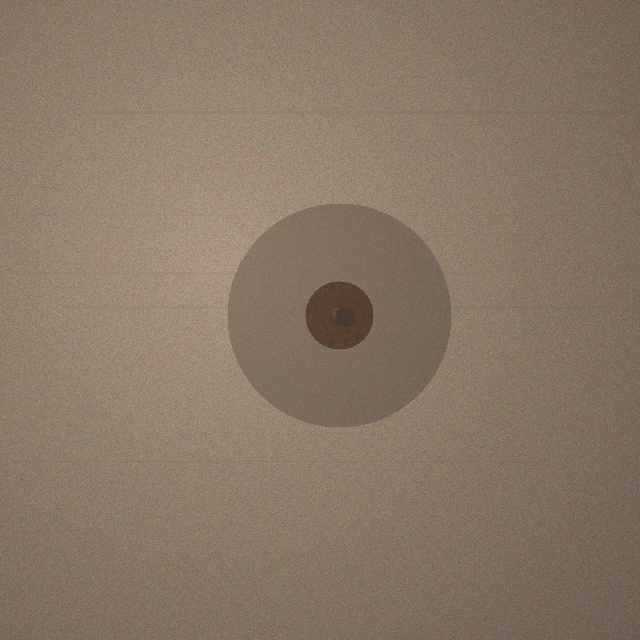cold_weld: (227, 203, 451, 427)
